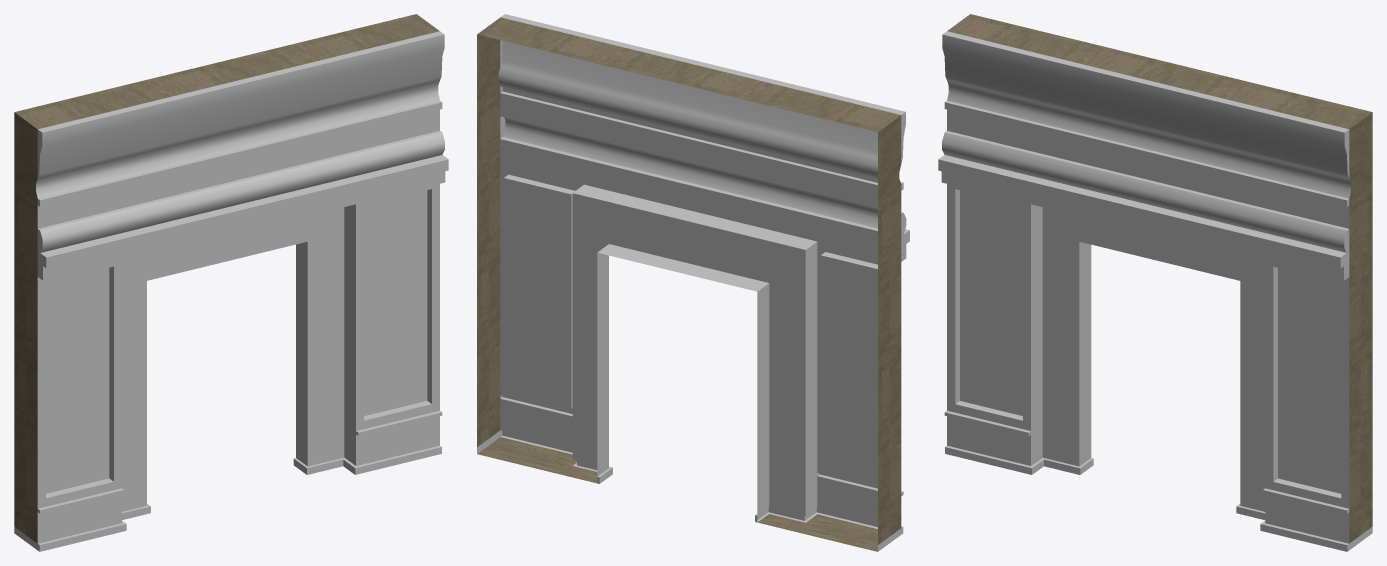
Rendered from Wall_3.FBX.
3 views of the same model, side by side, from view 1: azimuth 30°, elevation 25°; view 2: azimuth 150°, elevation 25°; view 3: azimuth 330°, elevation 25° (orthographic).
Parts seen in each view (by area): view 1: Wall_3; view 2: Wall_3; view 3: Wall_3.
Boxes of the visible parts, left/top/right/bottom form: Wall_3: left=14, top=14, right=448, bottom=551; Wall_3: left=477, top=14, right=909, bottom=551; Wall_3: left=938, top=14, right=1372, bottom=551.
Size of the model in its own units: 10 by 10 by 1.38.
